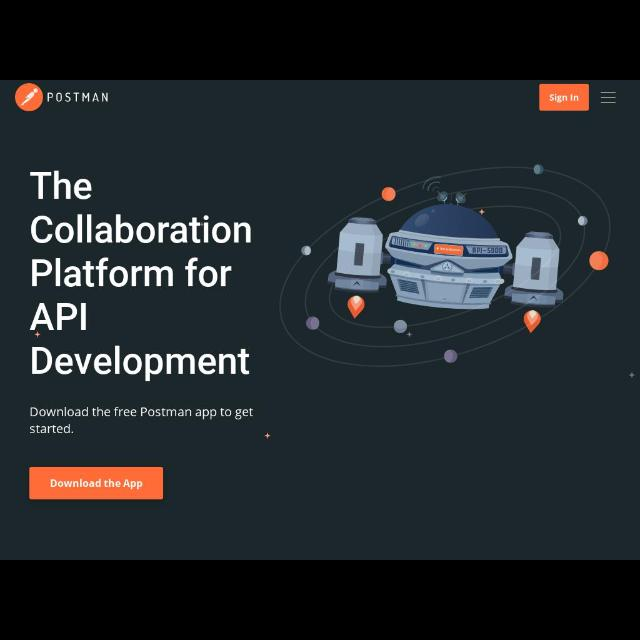icon: (599, 91, 617, 105)
image: (277, 164, 613, 366), (15, 84, 109, 115)
text: (29, 168, 251, 382), (30, 408, 254, 437), (50, 478, 144, 490), (550, 93, 580, 103)
textbutton: (31, 467, 163, 499), (540, 84, 588, 110)
